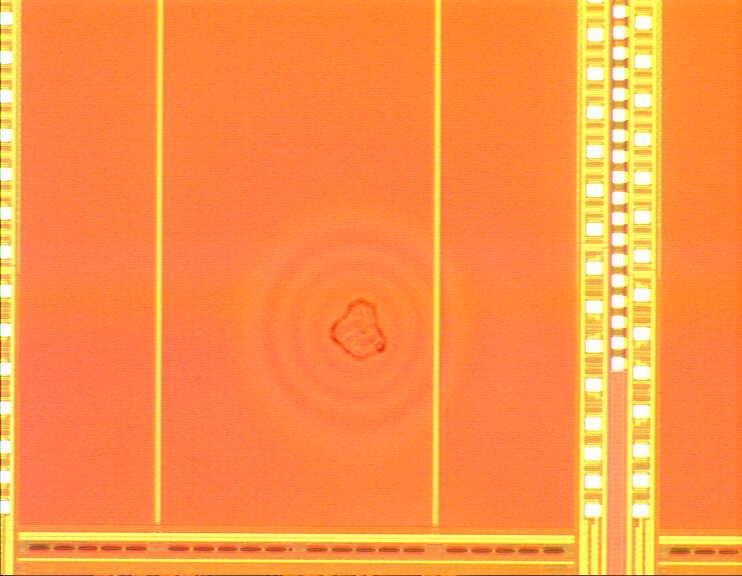PIQ PARTICLE: (324, 294, 396, 364)
